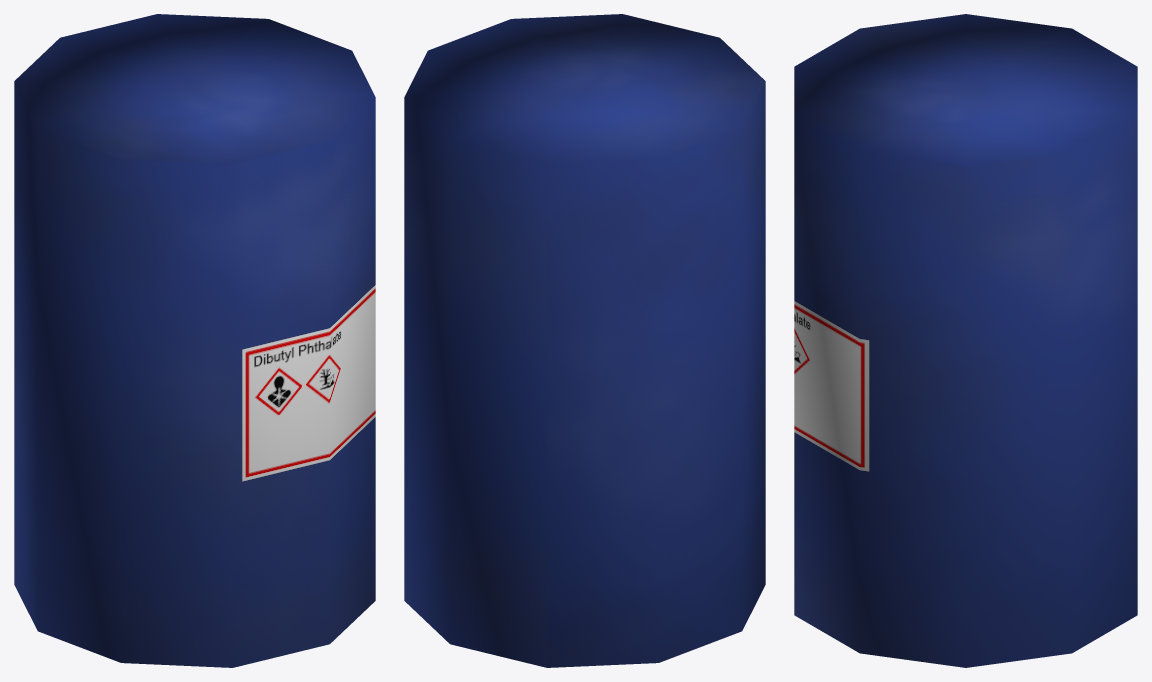
Rendered from dibutylPhthalate_L.fbx.
3 views of the same model, side by side, from view 1: azimuth 30°, elevation 25°; view 2: azimuth 150°, elevation 25°; view 3: azimuth 270°, elevation 25° (orthographic).
Parts seen in each view (by area): view 1: dibutylPhthalate_L; view 2: dibutylPhthalate_L; view 3: dibutylPhthalate_L.
Boxes of the visible parts, bbox=[...] form: dibutylPhthalate_L: bbox=[14, 14, 375, 667]; dibutylPhthalate_L: bbox=[404, 14, 765, 667]; dibutylPhthalate_L: bbox=[794, 14, 1137, 667].
Bounding box in the file's own units: 0.3862 × 0.5914 × 0.3673.
Materials: 1 (1 with a texture image).
